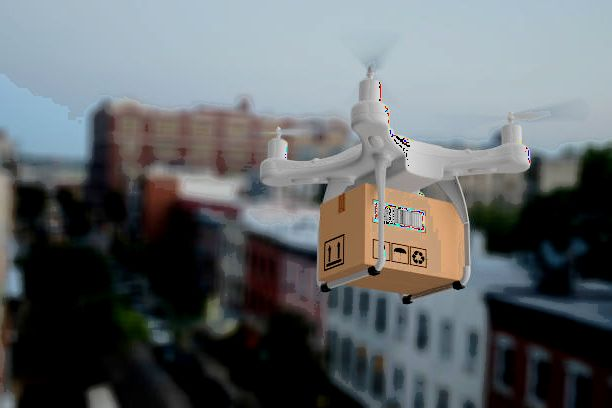Drone: (228, 48, 547, 198)
